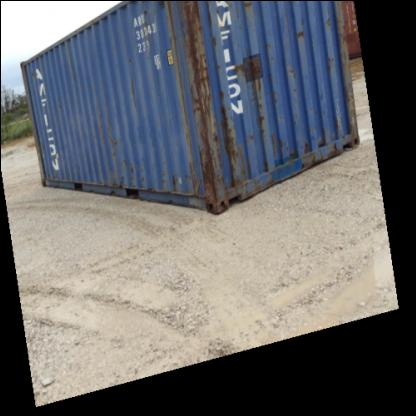Damage: (162, 1, 245, 202), (96, 110, 154, 194), (249, 54, 272, 136), (281, 132, 325, 166), (282, 57, 308, 98), (65, 36, 83, 92), (120, 68, 144, 100), (165, 166, 181, 194), (318, 48, 336, 72), (292, 16, 306, 42), (330, 135, 346, 152), (319, 10, 334, 26)
